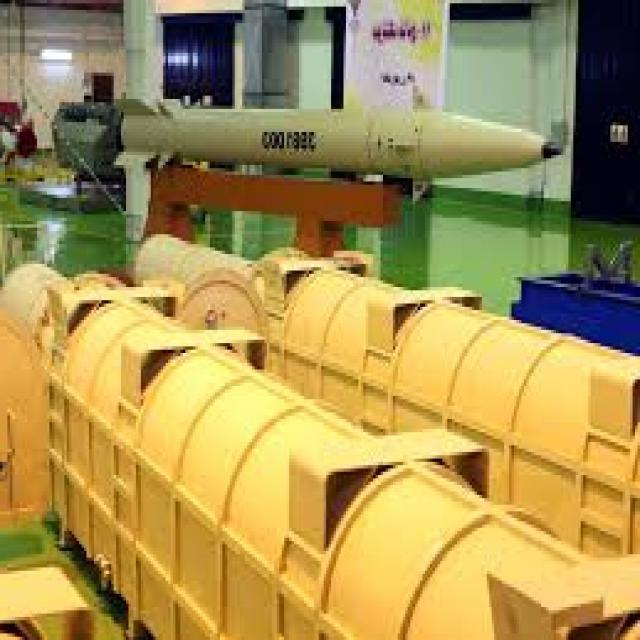Missile: (109, 97, 588, 181)
